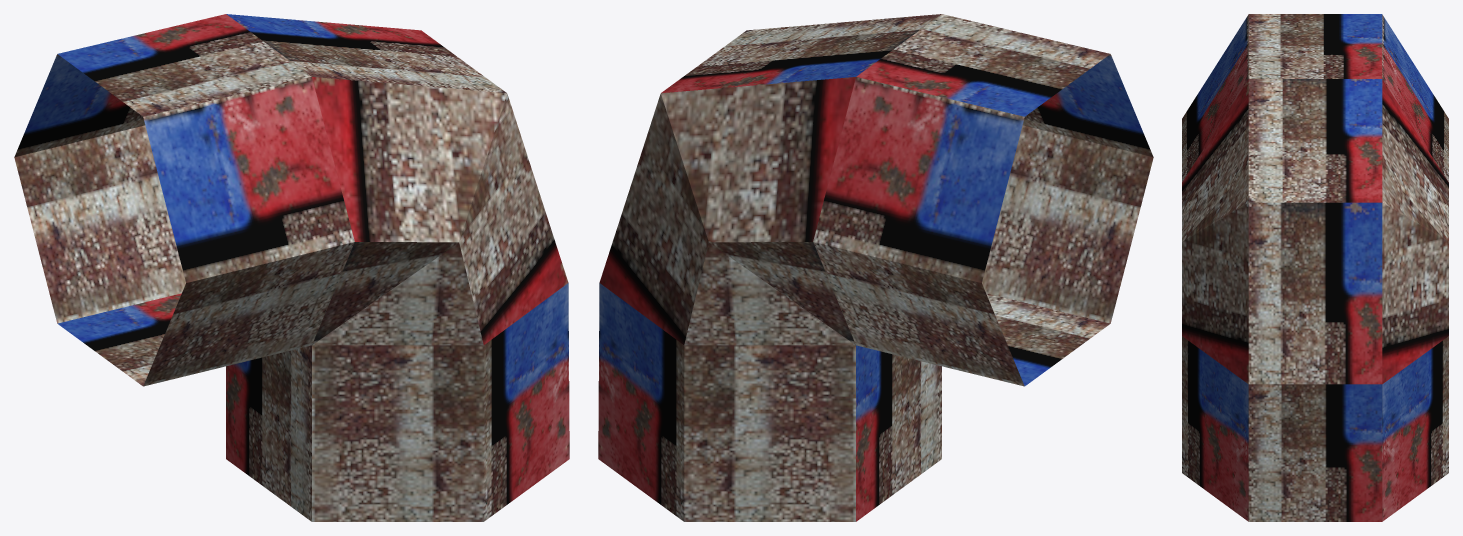
File: Urban_PipeCornerRusted_Model.fbx
3 views of the same model, side by side, from view 1: azimuth 30°, elevation 25°; view 2: azimuth 150°, elevation 25°; view 3: azimuth 270°, elevation 25° (orthographic). The views are drawn at different scales.
Parts seen in each view (by area): view 1: Urban_PipeCornerRusted_Mesh; view 2: Urban_PipeCornerRusted_Mesh; view 3: Urban_PipeCornerRusted_Mesh.
Boxes of the visible parts, left/top/right/bottom form: Urban_PipeCornerRusted_Mesh: left=14, top=14, right=569, bottom=521; Urban_PipeCornerRusted_Mesh: left=598, top=14, right=1153, bottom=521; Urban_PipeCornerRusted_Mesh: left=1182, top=14, right=1448, bottom=521.
Bounding box in the file's own units: 0.7165 × 0.7165 × 0.5.
